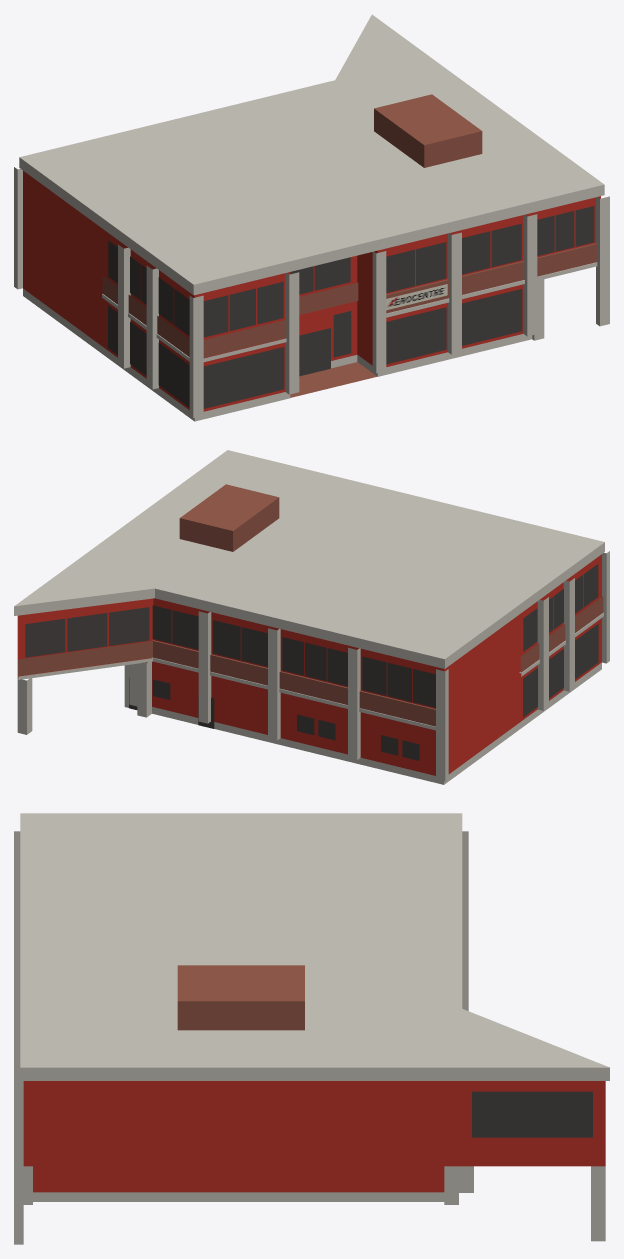
File: cyxd_aerocentre_lod1.gltf
3 views of the same model, one above another, from view 1: azimuth 30°, elevation 25°; view 2: azimuth 150°, elevation 25°; view 3: azimuth 270°, elevation 25° (orthographic). The views are drawn at different scales.
Parts seen in each view (by area): view 1: cyxd_aerocentre; view 2: cyxd_aerocentre; view 3: cyxd_aerocentre.
Part boxes in pixels (left/top/right/bottom): cyxd_aerocentre: left=14, top=14, right=609, bottom=421; cyxd_aerocentre: left=14, top=450, right=609, bottom=784; cyxd_aerocentre: left=14, top=813, right=609, bottom=1244.
Bounding box in the file's own units: 28.8 × 10.6 × 28.05.
